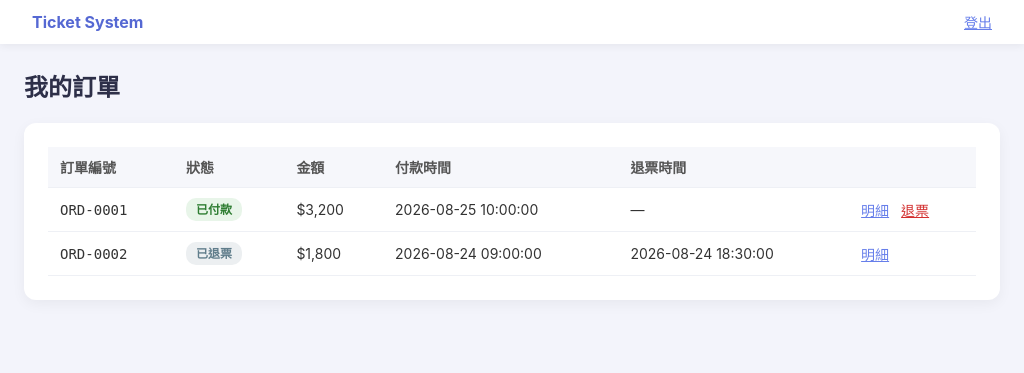
Test: Orders 退票 › 確認退票後呼叫 API，並就地把該列更新為已退票
Expected: the text "ORD-0001" is shown, [60,202,127,218]
What coordinates should you click on to do the following:
click the button "退票"
I would click on:
 (915, 210)
Its box is [901,200,929,220].
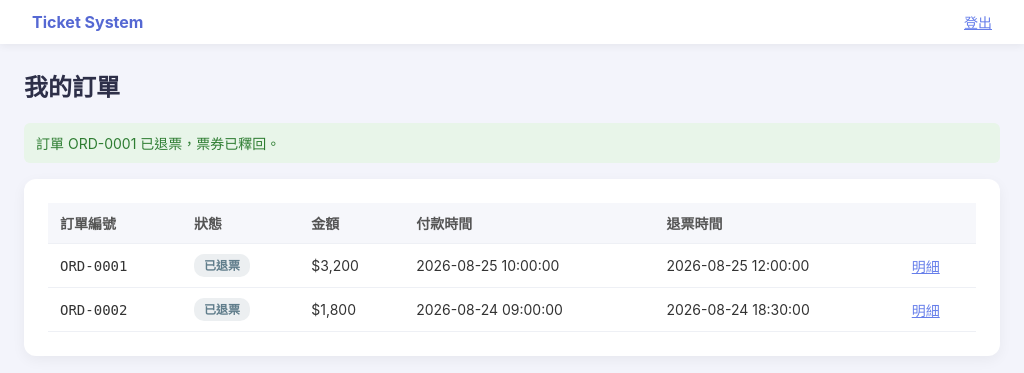
Result: the text "已退票" next to "3,200" is shown at [204,258,240,273]
Result: the text "訂單 ORD-0001 已退票，票券已釋回。" is shown at [24,123,1000,163]
Result: the text "2026-08-25 12:00:00" is shown at [654,244,900,288]
